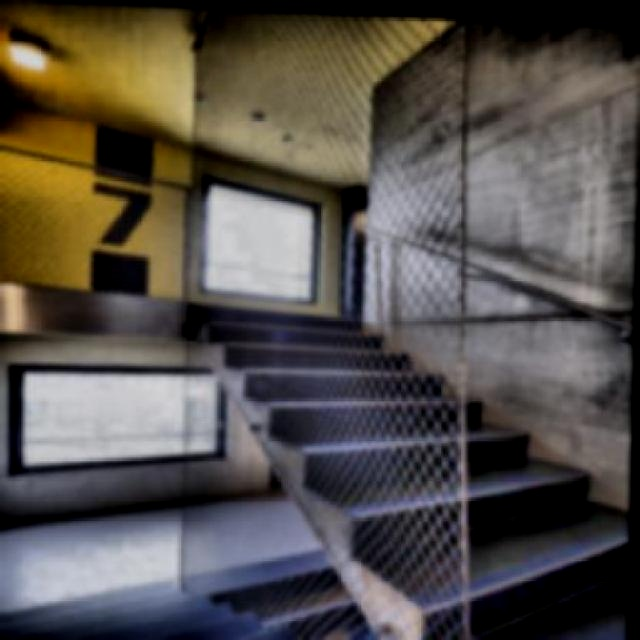stair: (188, 297, 635, 638)
